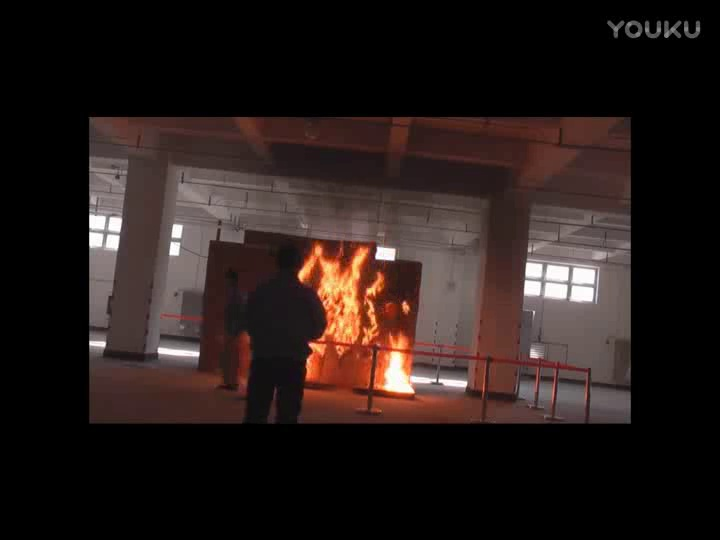fire: (302, 241, 420, 387)
